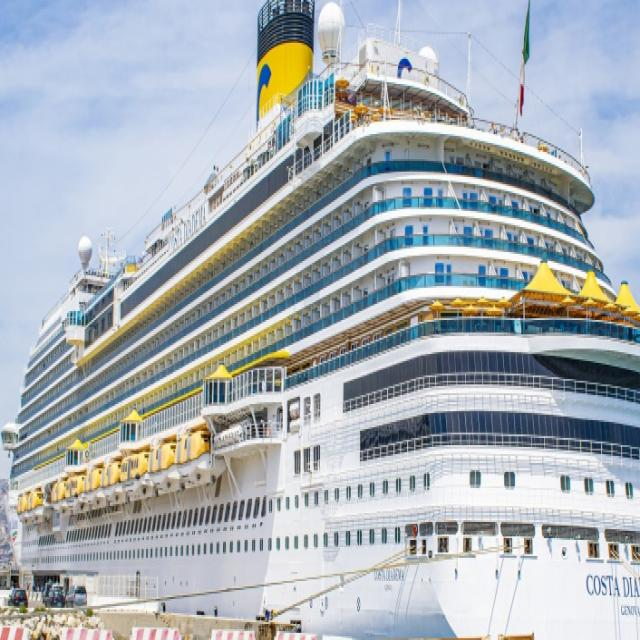cruises: (3, 1, 640, 640)
